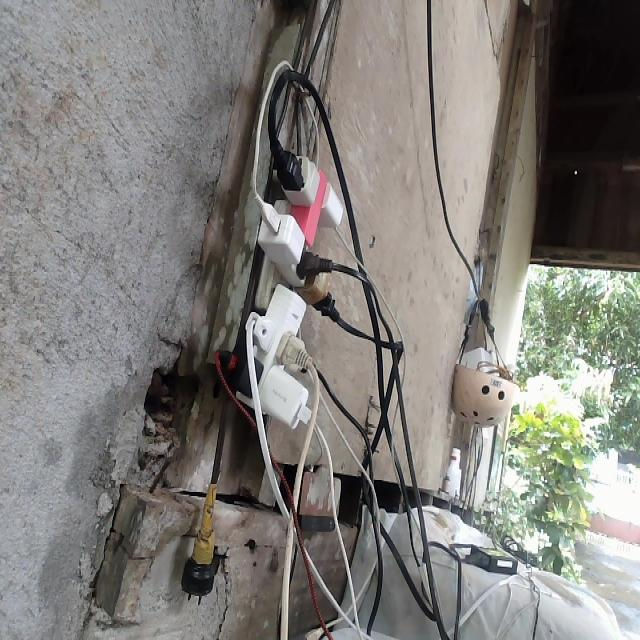-: (219, 140, 344, 429)
